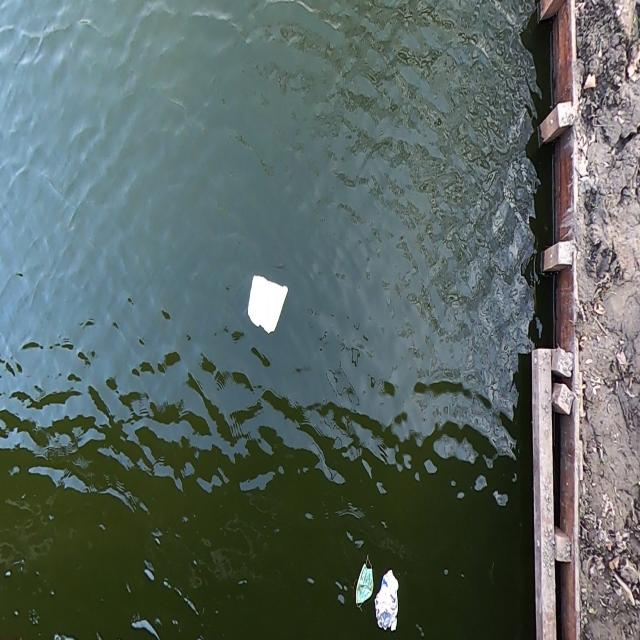Non plastique: (352, 555, 374, 616)
